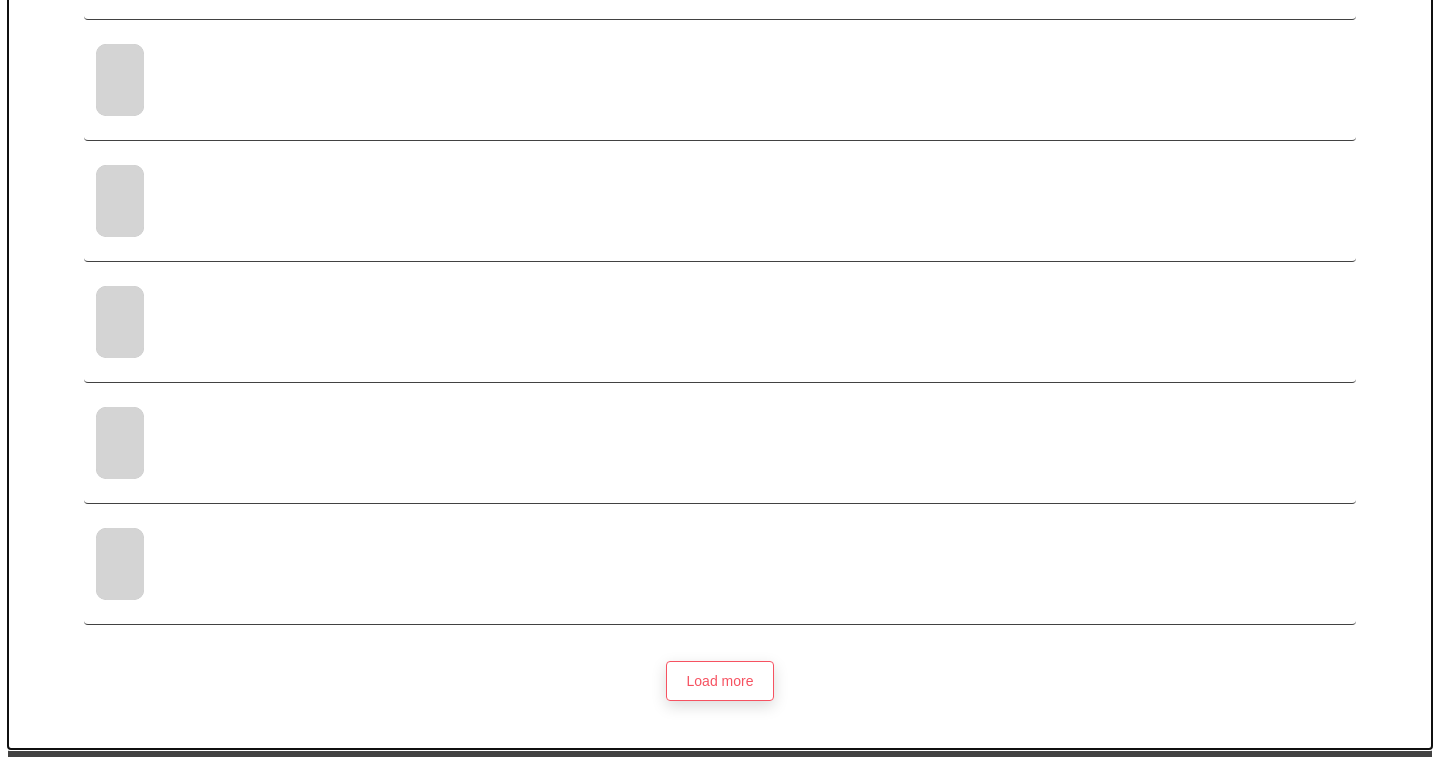
Test: hides Load More when all 20 movies are visible
(page scrolled)
Click the button "Load more": (720, 681) [666, 661, 774, 701]
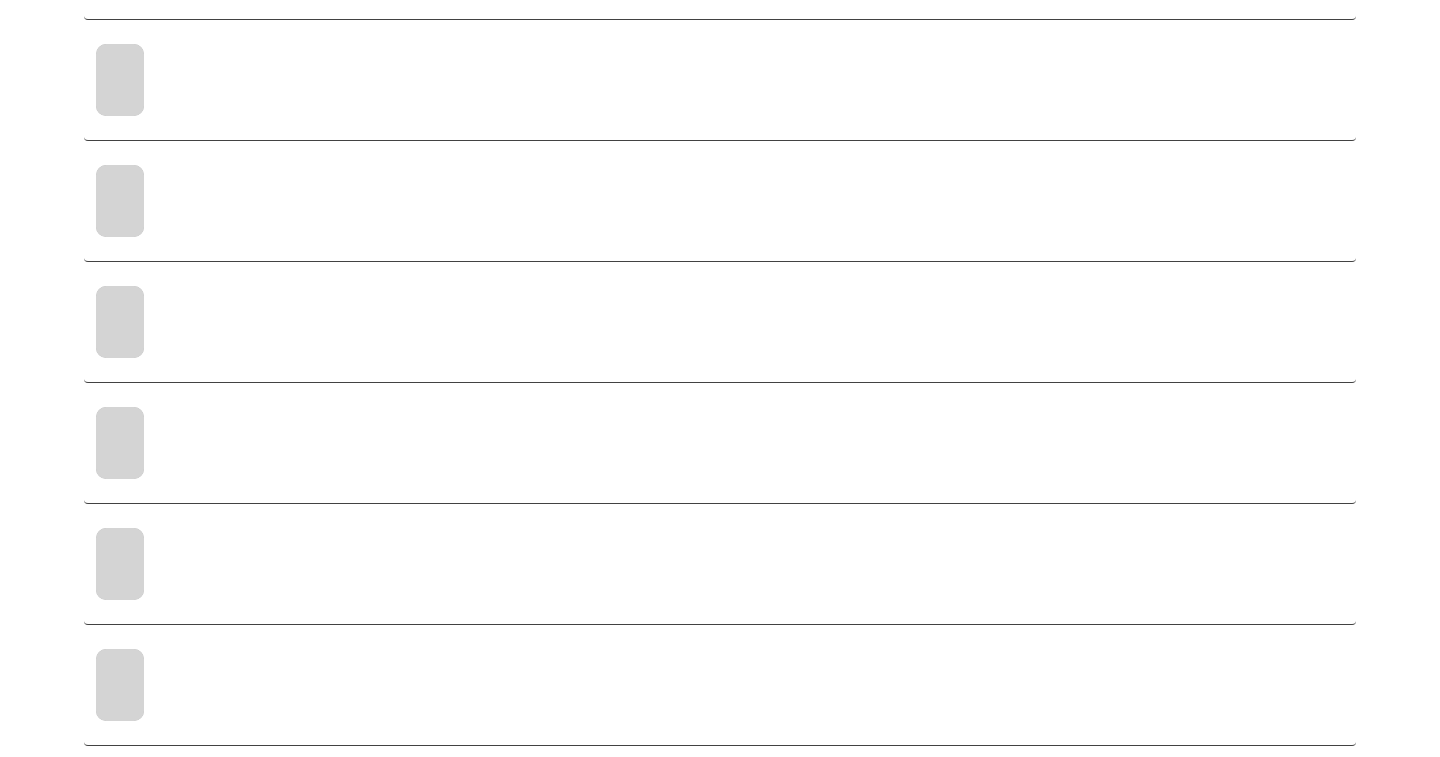
expect the button "Load more" is gone: met
